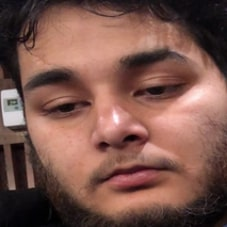drowsy: (21, 43, 206, 201)
